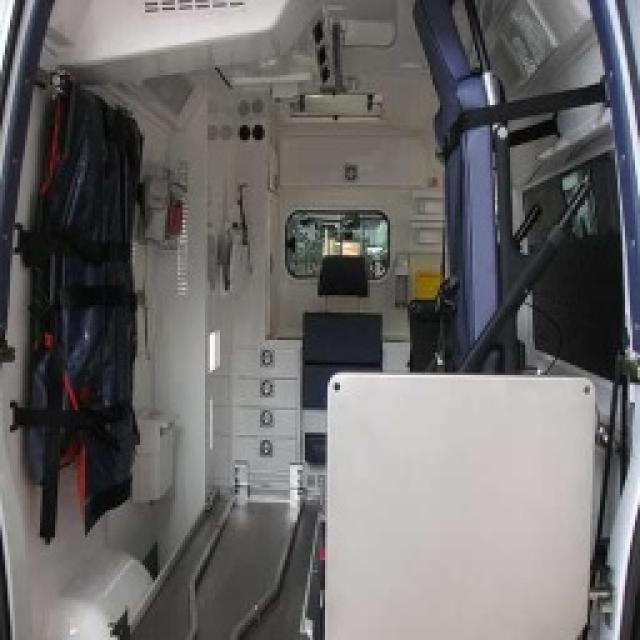ambulance: (578, 450, 638, 638)
